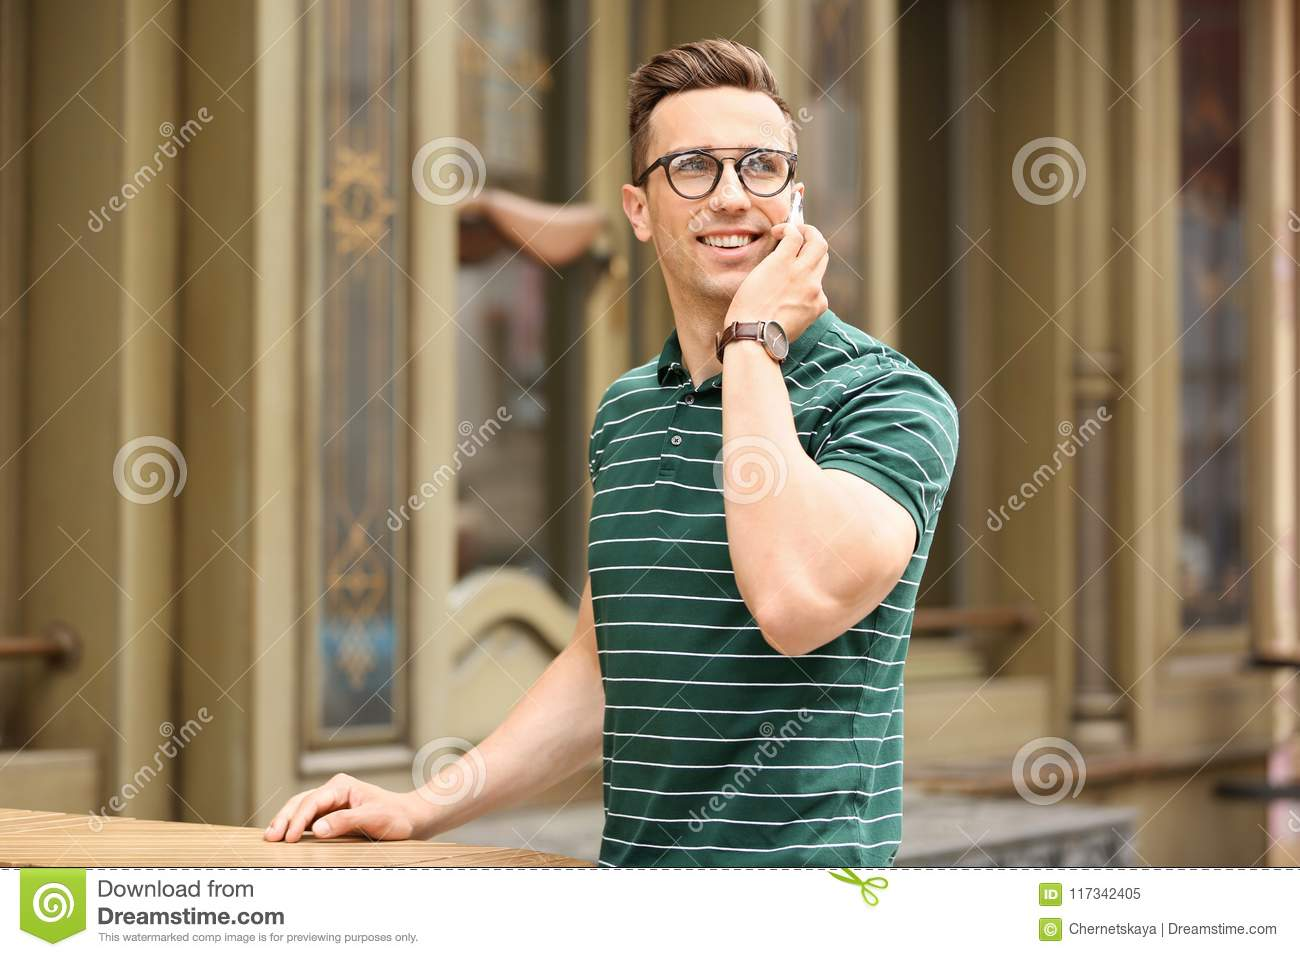phone: (775, 192, 814, 287)
talk: (670, 138, 832, 350)
